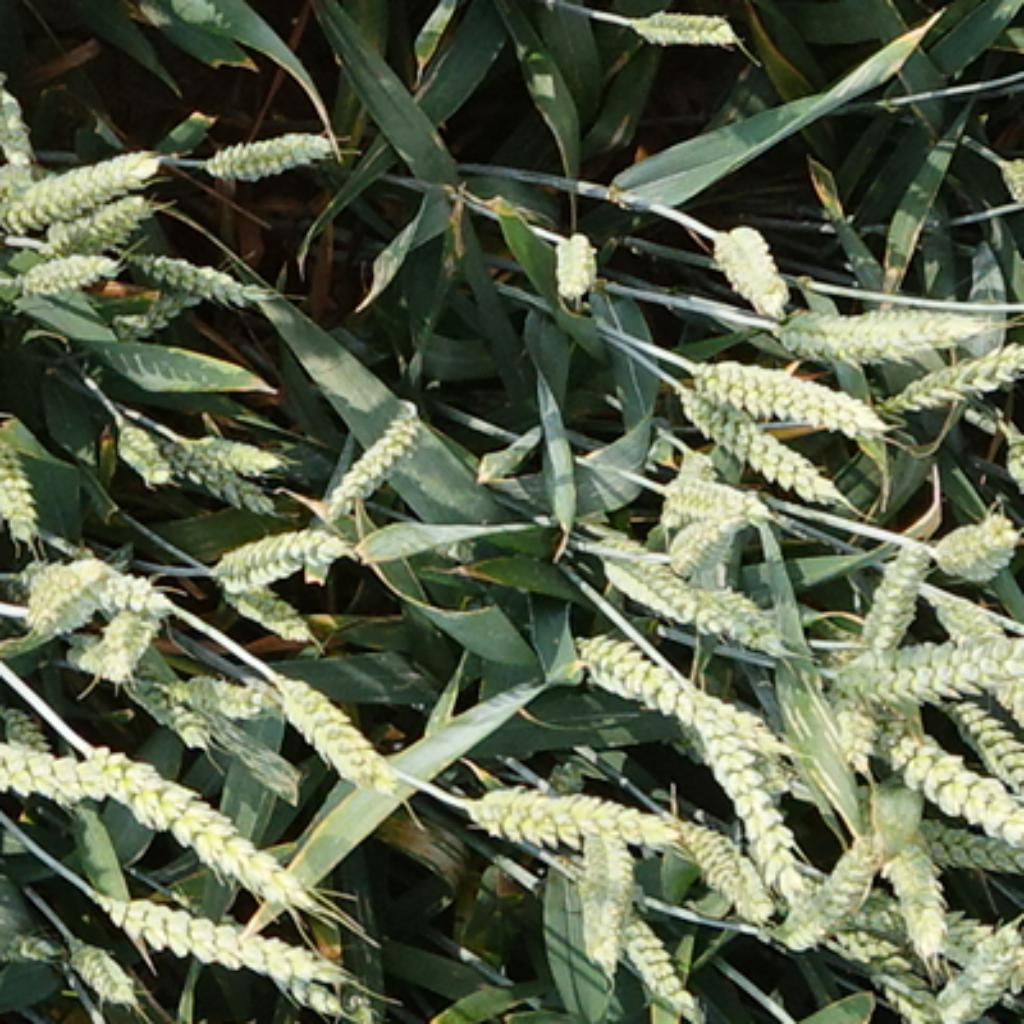0-0: (35, 727, 309, 885), (89, 875, 393, 1017), (573, 629, 796, 793), (655, 673, 801, 893), (0, 724, 232, 837), (791, 878, 947, 1024), (683, 394, 852, 512), (583, 535, 778, 637), (880, 698, 1018, 839), (668, 350, 888, 437), (0, 545, 133, 678), (455, 770, 675, 849), (266, 657, 396, 785), (0, 140, 166, 235), (780, 819, 898, 952), (826, 629, 1024, 706), (913, 588, 1024, 719), (0, 709, 128, 811), (765, 304, 1003, 358), (606, 893, 701, 1024), (138, 652, 279, 734), (10, 540, 138, 629), (673, 819, 778, 926), (880, 819, 949, 980), (327, 394, 430, 501), (885, 340, 1024, 419), (565, 824, 642, 962), (209, 514, 348, 588), (151, 417, 279, 494), (117, 238, 256, 307), (20, 176, 163, 243), (865, 819, 1024, 878), (196, 125, 340, 189), (59, 929, 159, 1021), (942, 698, 1024, 801), (709, 222, 793, 320), (855, 535, 929, 642), (216, 579, 321, 649), (81, 588, 166, 673), (929, 517, 1018, 593), (665, 506, 752, 583), (652, 465, 762, 522), (624, 5, 747, 53), (10, 240, 117, 291), (0, 422, 43, 532), (547, 232, 606, 307), (665, 448, 721, 527), (110, 409, 168, 478), (824, 701, 875, 775), (0, 64, 34, 174)
